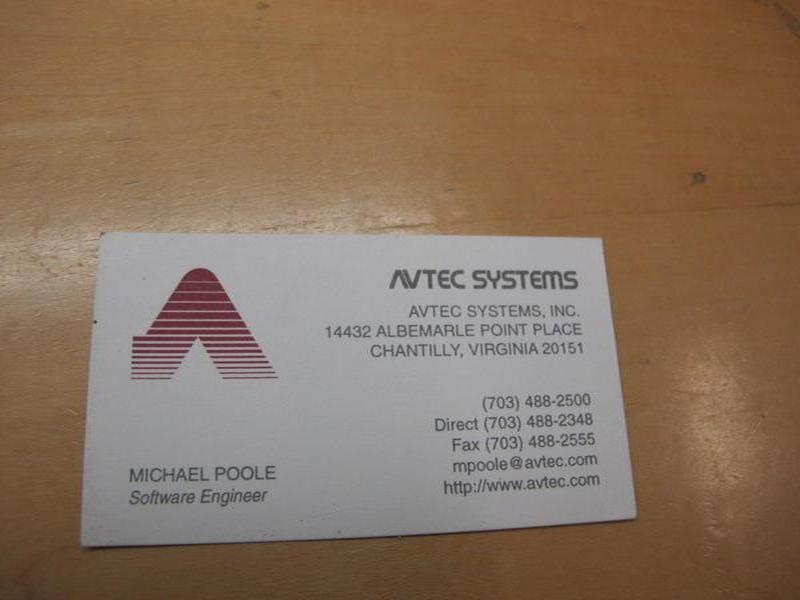card: (79, 231, 646, 547)
